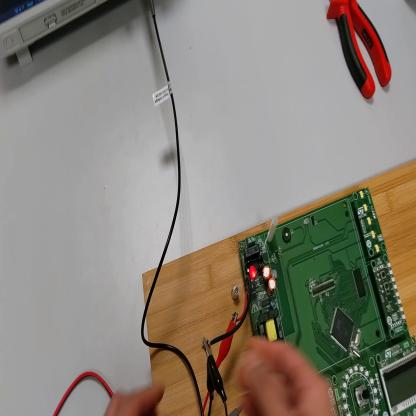hand: (238, 336, 334, 416), (107, 382, 166, 415)
low voltage board: (205, 191, 416, 414)
oscilloscope: (1, 1, 117, 67)
pliers: (328, 2, 393, 103)
working area: (145, 161, 416, 416)
